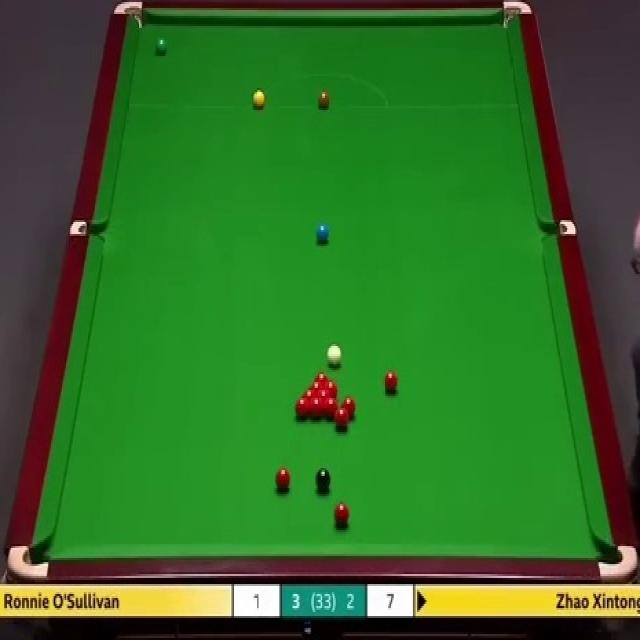black-ball: (316, 468, 332, 494)
blue-ball: (316, 224, 329, 243)
brown-ball: (317, 91, 330, 110)
green-ball: (155, 38, 167, 56)
red-ball: (382, 368, 400, 394), (274, 466, 291, 492), (335, 502, 350, 528), (324, 397, 339, 420), (294, 396, 309, 418), (334, 408, 348, 431), (342, 396, 356, 419), (309, 396, 323, 418), (325, 380, 338, 396), (312, 370, 330, 380), (308, 380, 324, 390), (316, 389, 332, 397), (302, 389, 316, 398)
white-ball: (327, 340, 343, 368)
yellow-ball: (252, 89, 265, 108)
